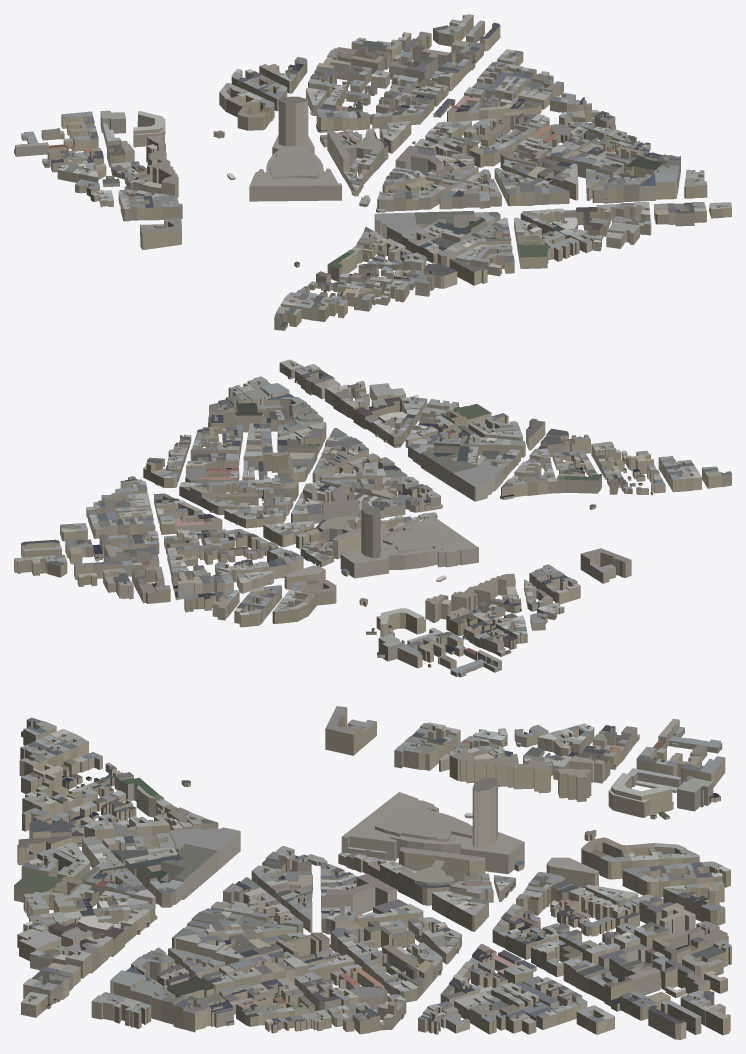
3 views of the same model, one above another, from view 1: azimuth 30°, elevation 25°; view 2: azimuth 150°, elevation 25°; view 3: azimuth 270°, elevation 25° (orthographic). The views are drawn at different scales.
Visible parts, largest first — view 1: tuile; view 2: tuile; view 3: tuile.
Boxes of the visible parts, x1=… form: tuile: x1=14, y1=14, x2=731, y2=330; tuile: x1=14, y1=359, x2=731, y2=677; tuile: x1=14, y1=706, x2=731, y2=1039.
Bounding box in the file's own units: 1054 × 133 × 1031.
